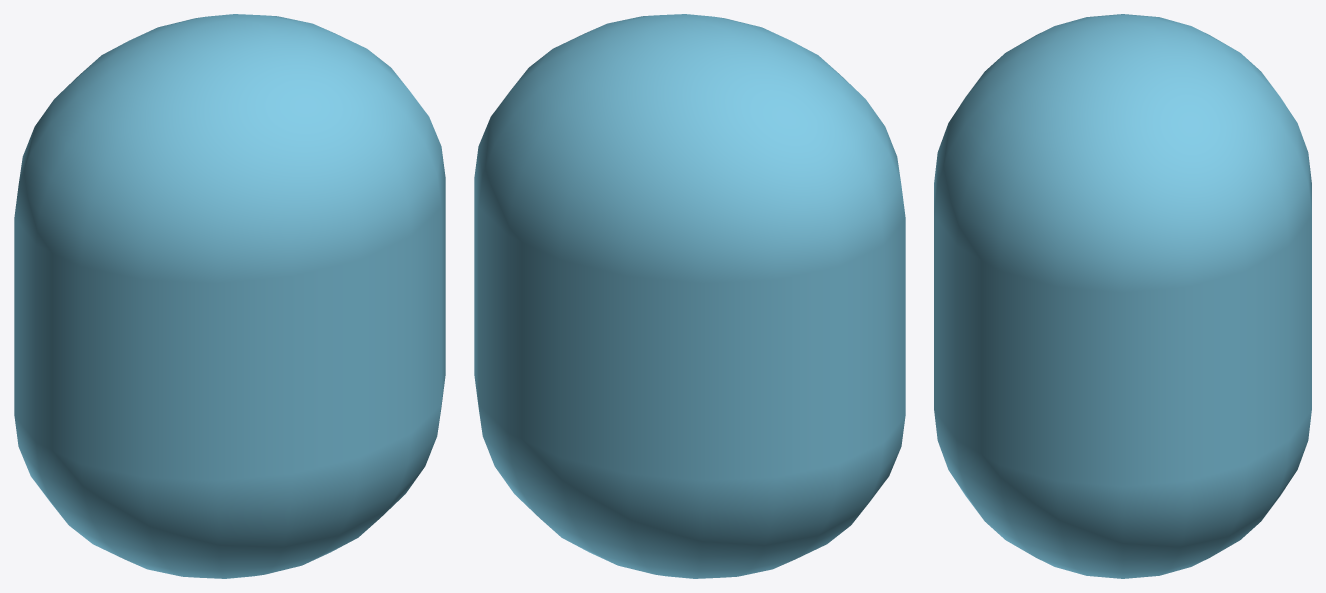
Rendered from torso_cozy.glb.
3 views of the same model, side by side, from view 1: azimuth 30°, elevation 25°; view 2: azimuth 150°, elevation 25°; view 3: azimuth 270°, elevation 25° (orthographic).
Visible parts, largest first — view 1: Torso; view 2: Torso; view 3: Torso.
Part boxes in pixels (left/top/right/bottom): Torso: left=14, top=14, right=445, bottom=578; Torso: left=474, top=14, right=905, bottom=578; Torso: left=934, top=14, right=1311, bottom=578.
Bounding box in the file's own units: 14.01 × 18.1 × 12.02.
